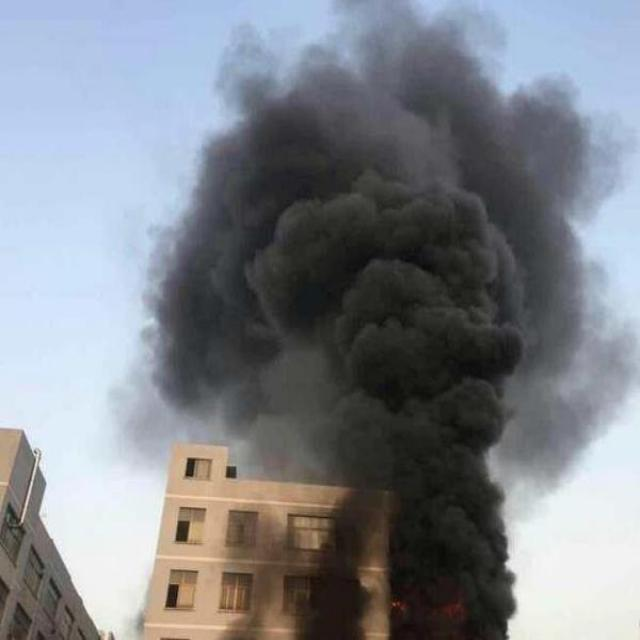smoke: (154, 6, 624, 632)
